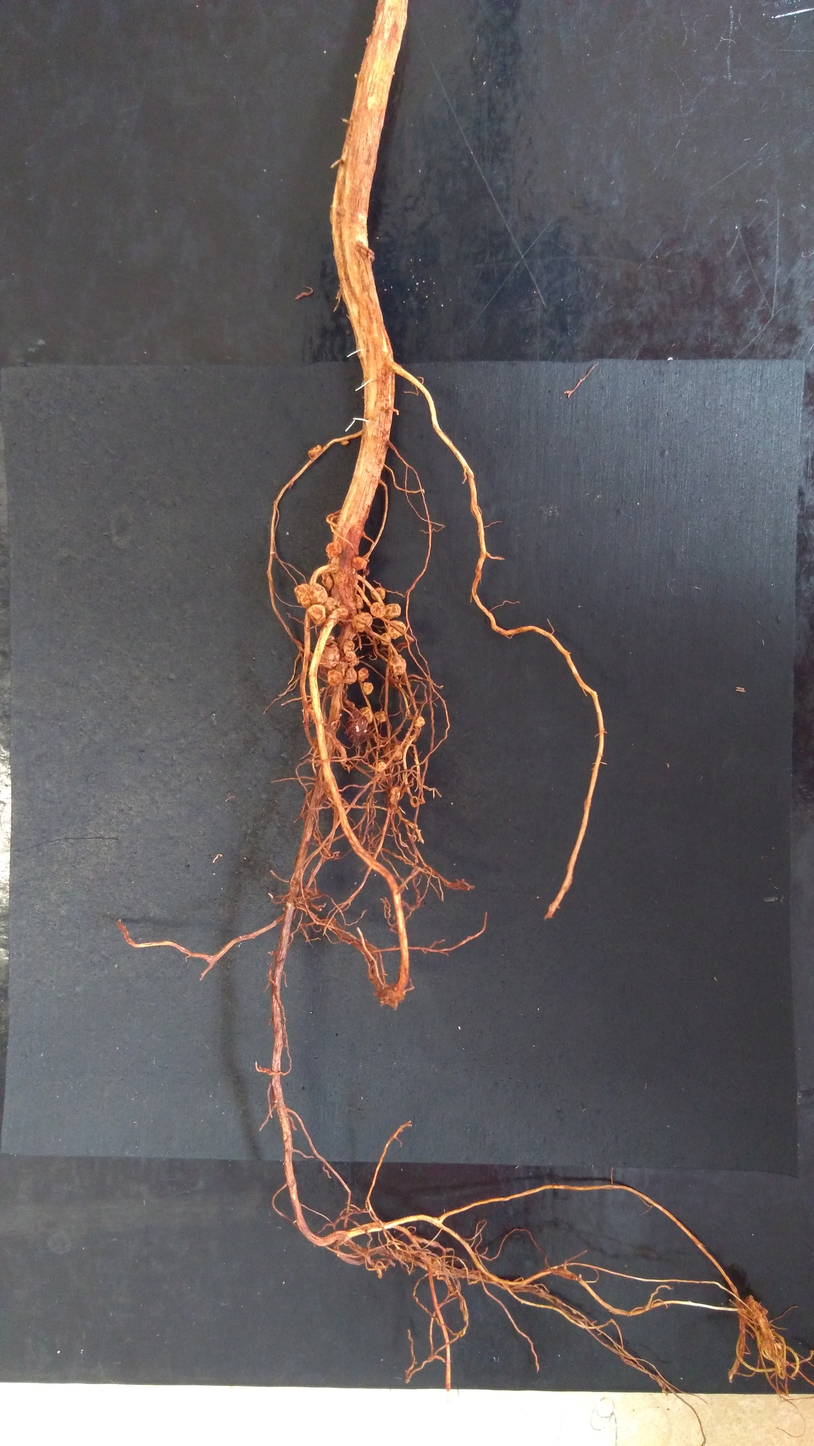nodule: (743, 1295, 768, 1316), (349, 710, 368, 737), (321, 644, 340, 668), (308, 583, 327, 606), (352, 612, 372, 632), (294, 583, 310, 608), (388, 654, 406, 676), (387, 620, 406, 640), (307, 605, 326, 625), (324, 597, 340, 615), (326, 541, 342, 559), (327, 669, 343, 686), (342, 668, 357, 685), (359, 706, 373, 724), (370, 602, 385, 618), (385, 603, 401, 618), (318, 630, 335, 644), (351, 557, 368, 571), (336, 657, 348, 676), (388, 786, 400, 804), (321, 572, 333, 590), (308, 445, 322, 460), (371, 587, 385, 600), (358, 667, 369, 682), (344, 640, 355, 654), (392, 745, 402, 760), (355, 593, 364, 609), (338, 608, 349, 621), (381, 632, 391, 646), (375, 711, 386, 723), (363, 682, 373, 695), (344, 651, 356, 661), (414, 716, 424, 727), (348, 658, 359, 668), (377, 761, 386, 772), (409, 733, 417, 742), (341, 440, 349, 445)
